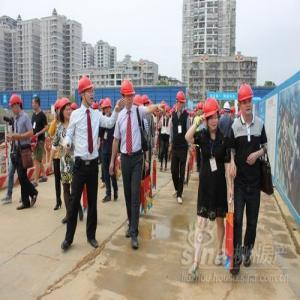none: (32, 96, 42, 112)
red: (204, 96, 222, 133), (238, 83, 257, 117), (78, 76, 96, 107), (121, 79, 136, 108), (10, 94, 24, 117), (60, 97, 72, 121), (176, 90, 187, 111), (102, 96, 113, 117), (199, 102, 205, 115), (165, 106, 171, 117)
white: (224, 102, 232, 115)
